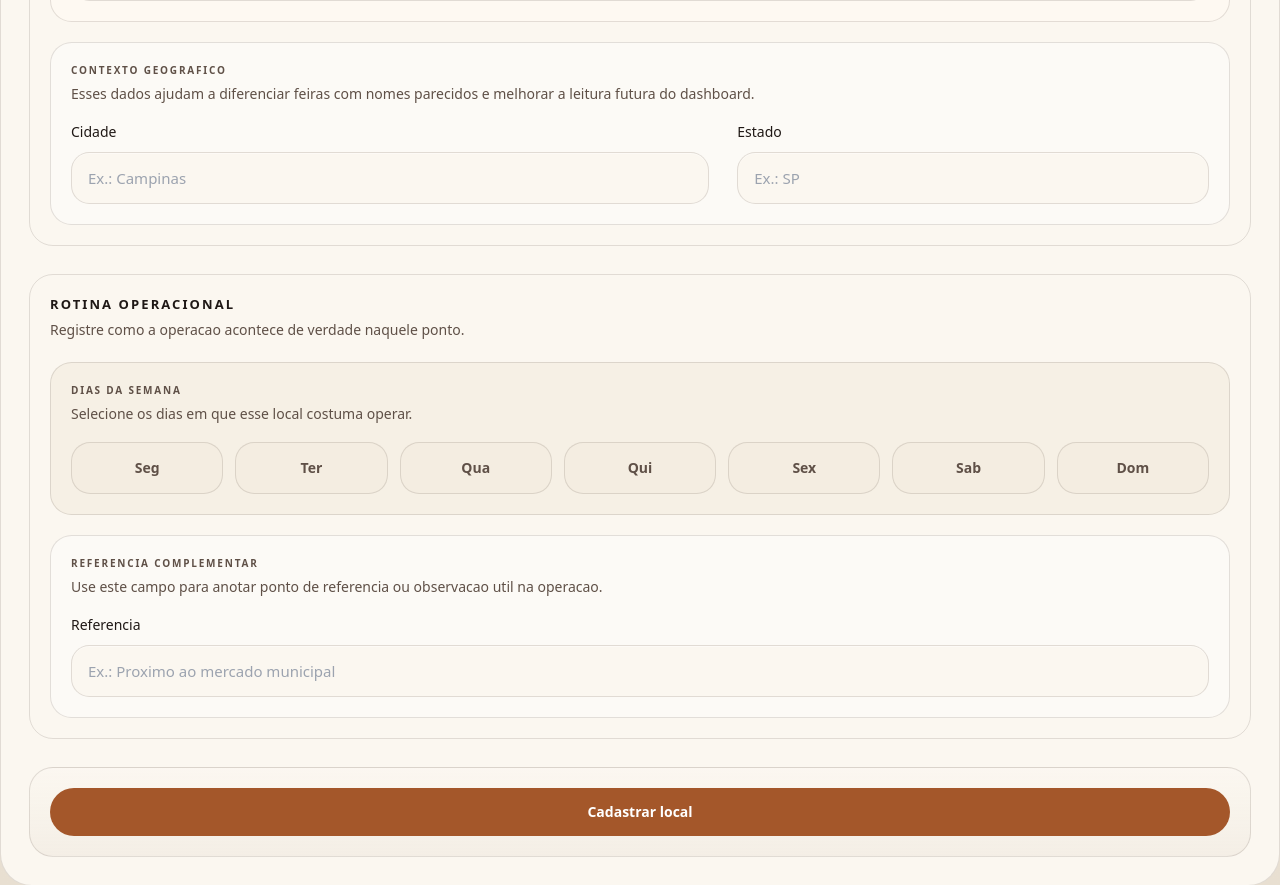
Scenario: FairLocationsWorkspace › bloqueia cadastro invalido e exibe erros inline
(page scrolled)
Click the button "Cadastrar local" at [640, 812], box [50,788,1230,836]
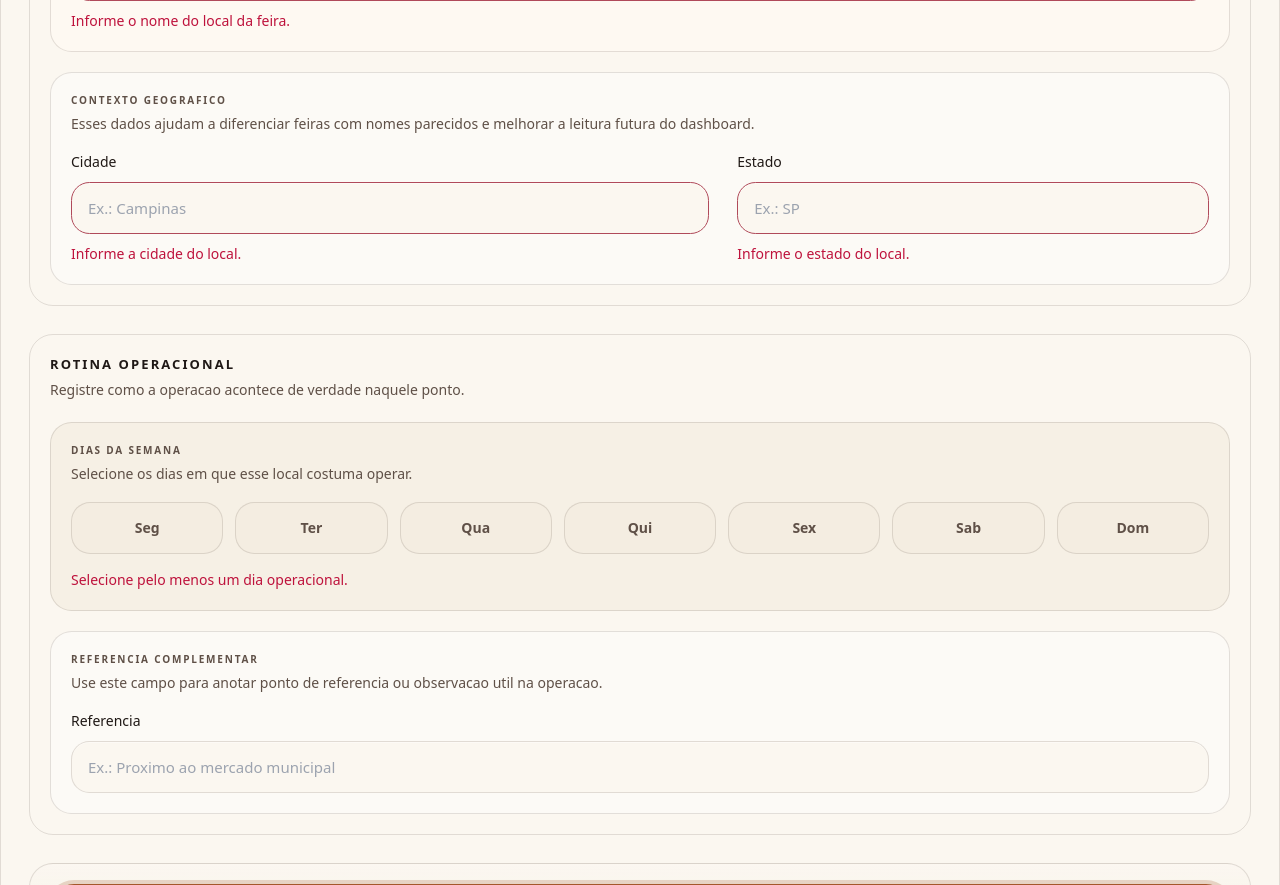
Now the text "Informe o nome do local da feira." is shown, box [71,10,290,30]
Now the text "Selecione pelo menos um dia operacional." is shown, box [71,570,348,589]
